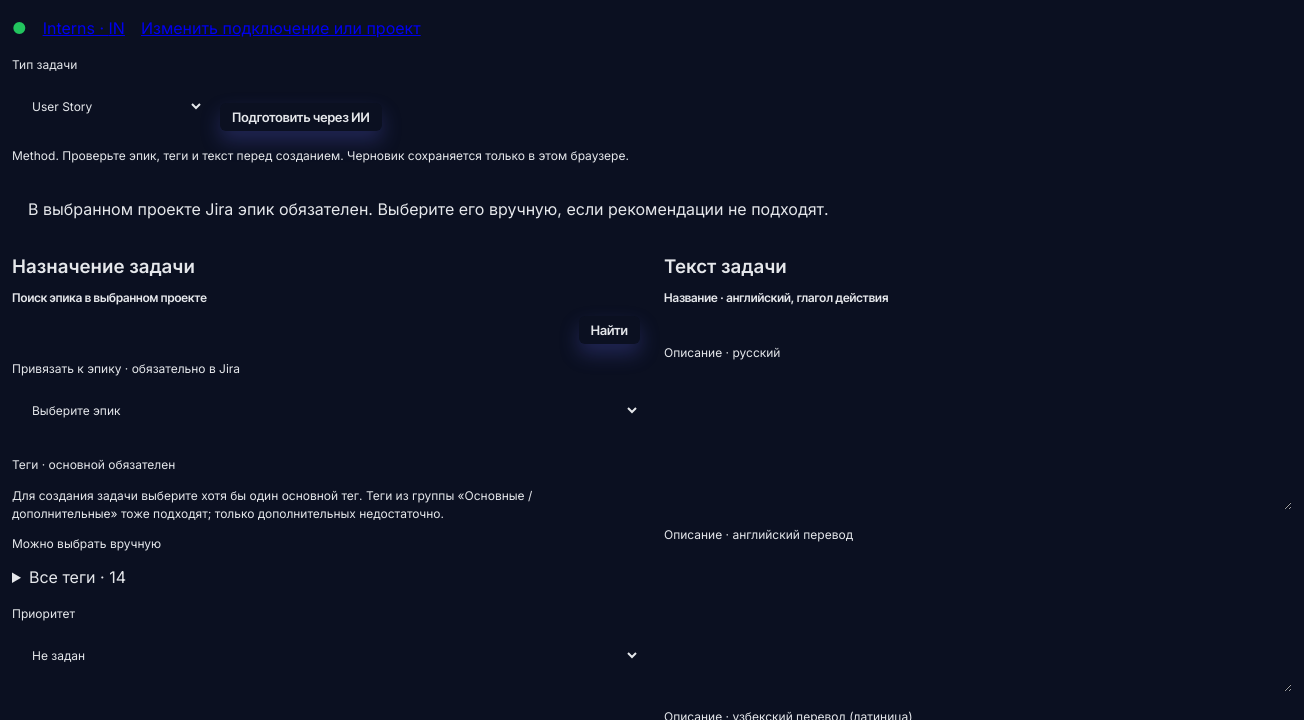
Test case: Jira integration panel › respects an Epic Link required by Jira project settings
Click the button "Подготовить через ИИ" at (301, 117), box [220,103,382,131]
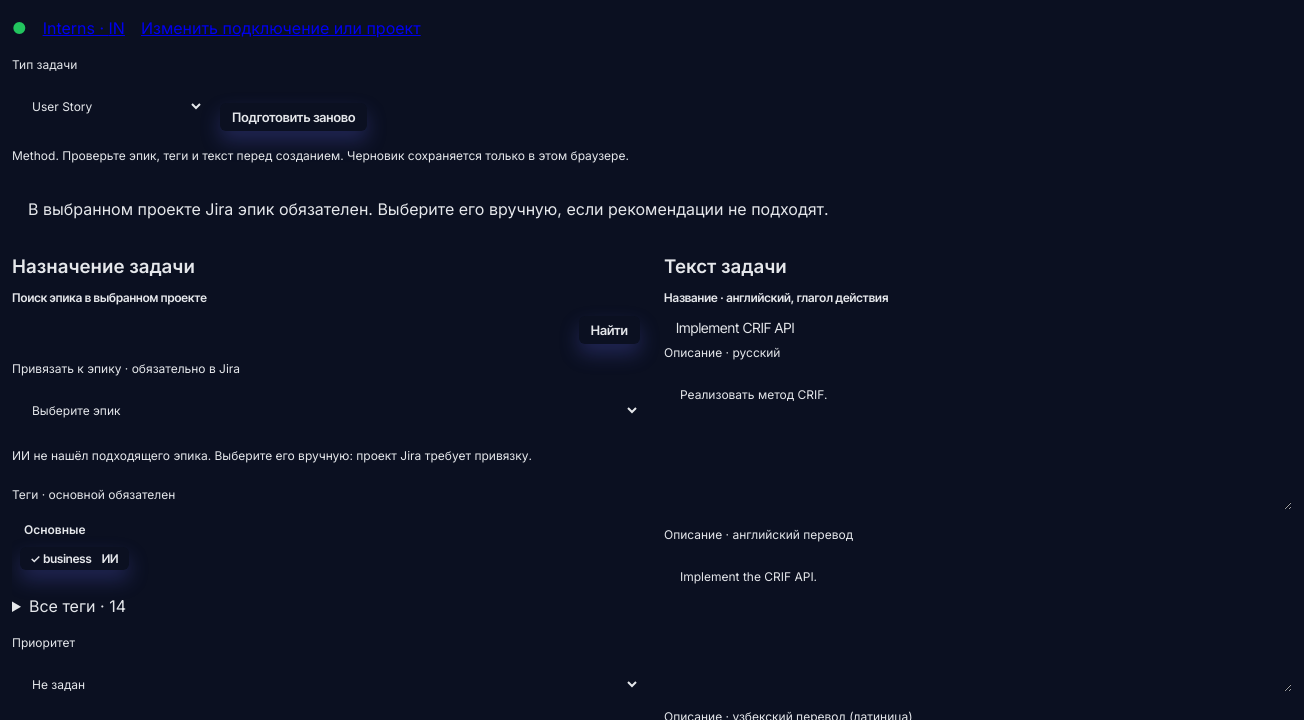
Expected: the text "ИИ не нашёл подходящего эпика" is shown, [12,448,214,463]
Select "IN-5 · Integration" in the dropdown labelled "Привязать к эпику · обязательно в Jira" at (326, 411), box [12,386,640,435]
(page scrolled)
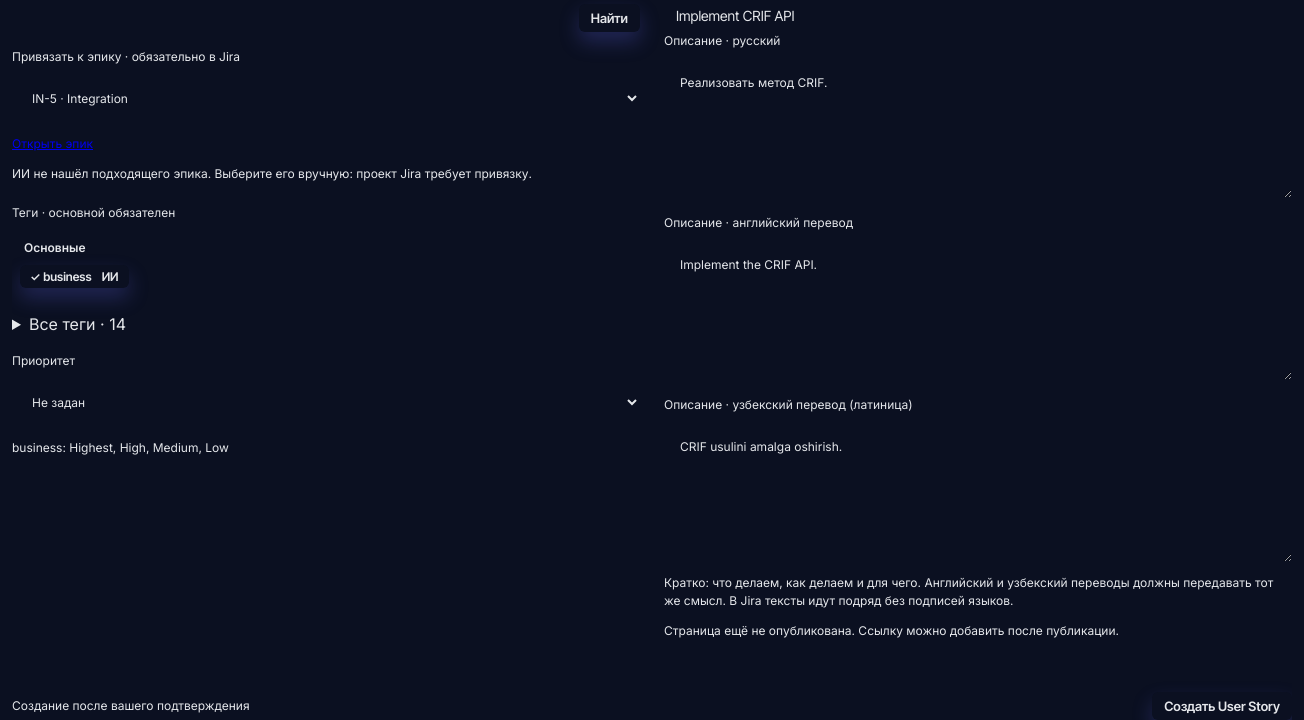
Expected: the button "Создать User Story" is enabled, [1152,692,1292,719]
